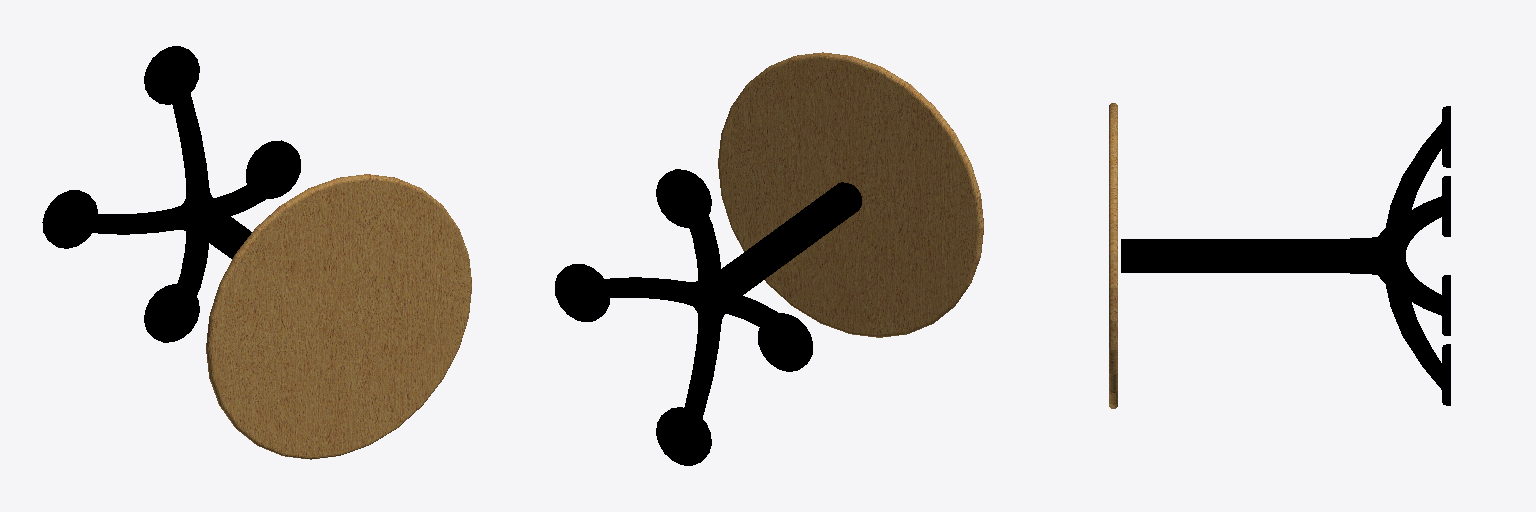
3 renders of one model, left to right at view 1: azimuth 30°, elevation 25°; view 2: azimuth 150°, elevation 25°; view 3: azimuth 270°, elevation 25°, orthographic.
Parts seen in each view (by area): view 1: object0; view 2: object0; view 3: object0.
Boxes of the visible parts, <box> form: object0: <box>42,46,471,459</box>; object0: <box>555,52,983,465</box>; object0: <box>1109,103,1450,408</box>.
Size of the model in its own units: 30.92 by 32.78 by 34.58.
2 materials, 1 textured.